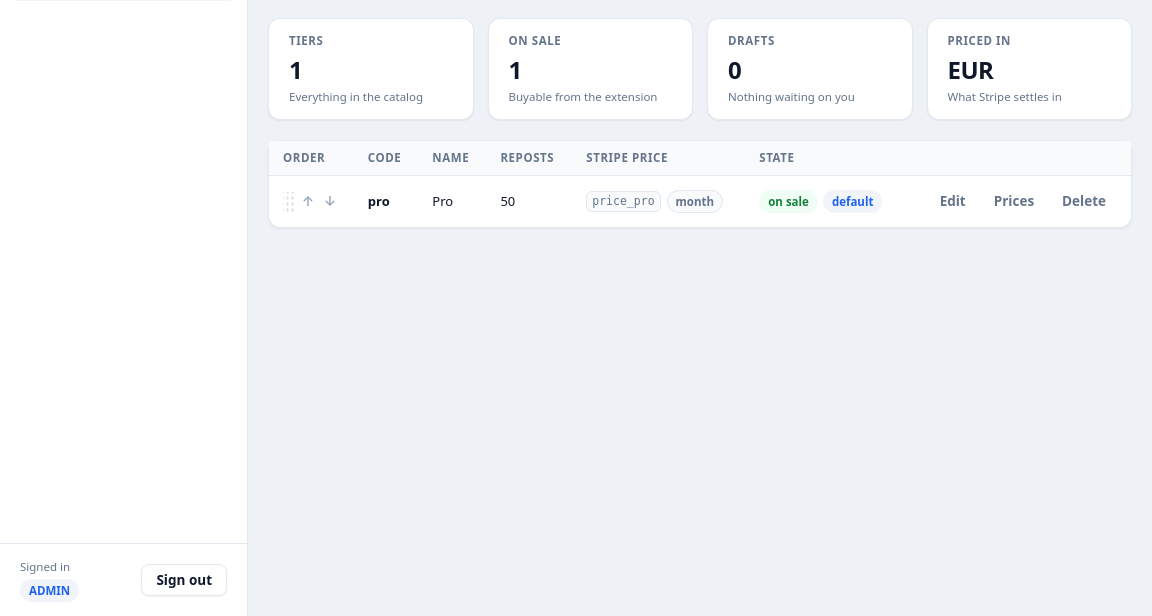
Test: deleting a tier › and warns loudest when there is nowhere for them to land
Click the button "Delete" at (1084, 202), box [1051, 187, 1117, 216]
(page scrolled)
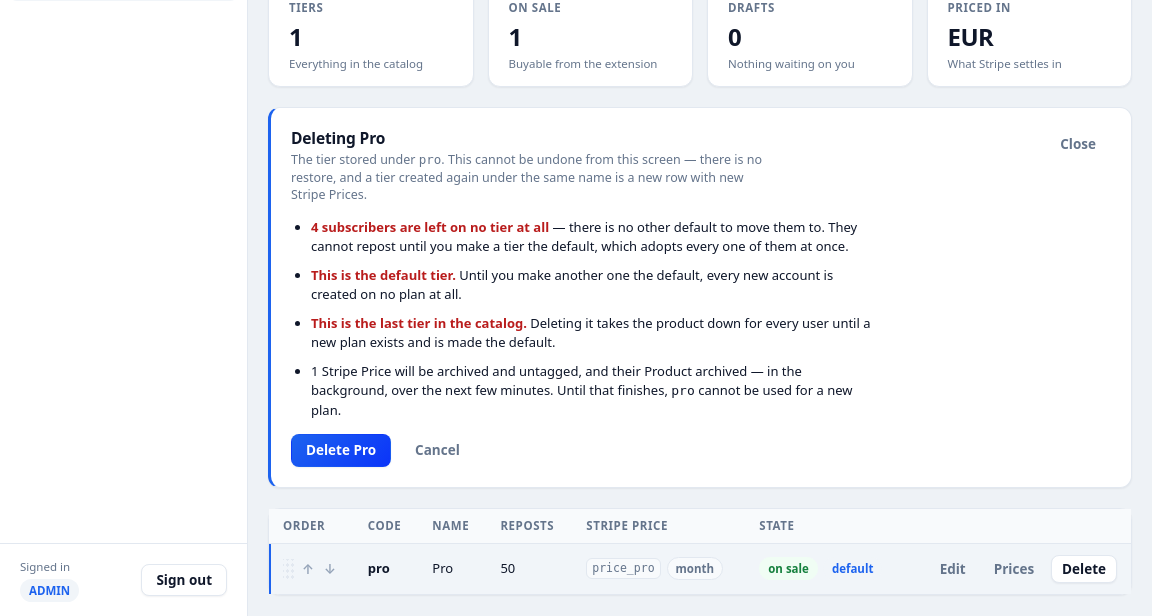
Expected: the element with class "admin-page" shows "left on no tier at all", [421, 218, 549, 236]
